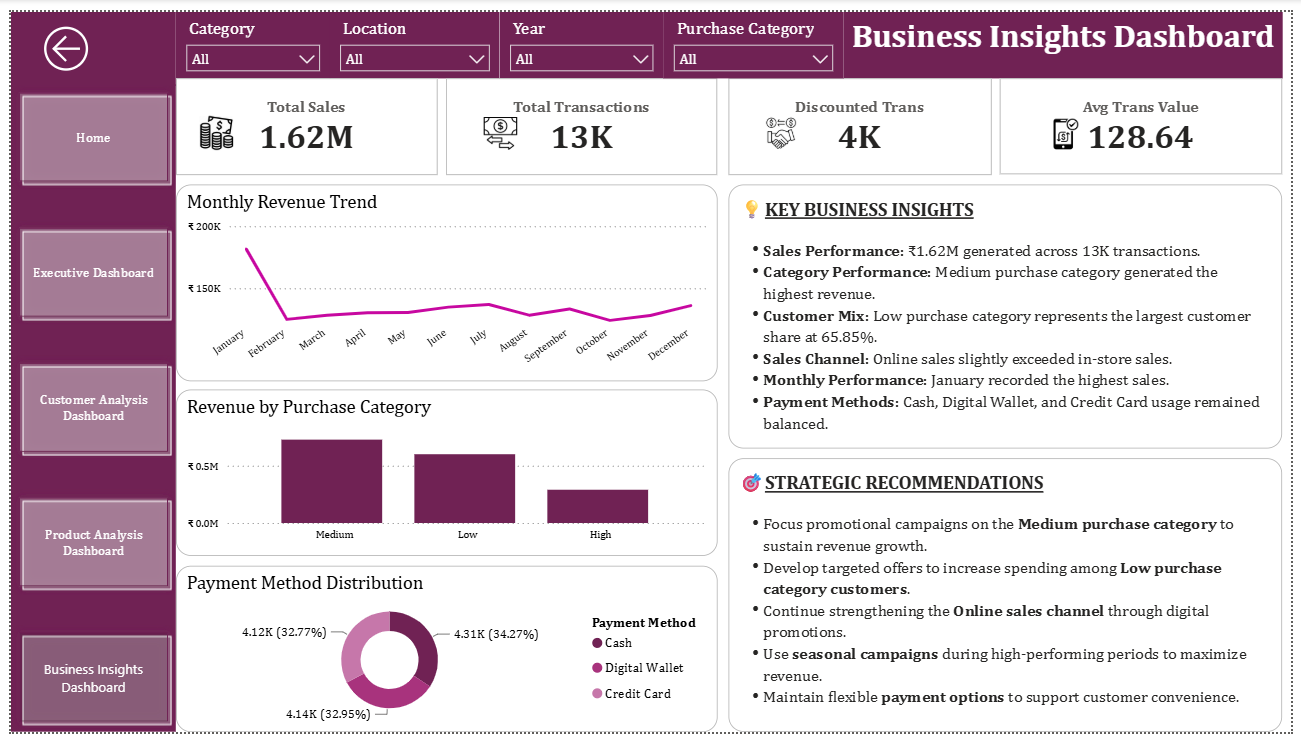

What the dashboard file says about the page in this screenshot:
{"tool":"powerbi","page":{"name":"Business Insights Dashboard","canvas":[1280,720],"ordinal":4},"visuals":[{"type":"textbox","box":[832.7,0,439,66],"z":0},{"type":"slicer","fields":{"Values":["Retail_Sales.Transaction Date.Variation.Date Hierarchy.Year"]},"box":[489.1,0,163.9,66],"z":1000},{"type":"slicer","fields":{"Values":["Retail_Sales.Category"]},"box":[165.1,0,154.1,66],"z":2000},{"type":"slicer","fields":{"Values":["Retail_Sales.Location"]},"box":[319.2,0,170,66],"z":3000},{"type":"cardVisual","fields":{"Data":["Dim_Product.Total Sales"]},"box":[165.1,66,261.7,96.6],"z":4000},{"type":"cardVisual","fields":{"Data":["Retail_Sales.Total Transactions"]},"box":[435.3,66,271.5,96.6],"z":5000},{"type":"cardVisual","fields":{"Data":["Retail_Sales.Discounted Transactions"]},"box":[717.8,66,262.9,96.6],"z":6000},{"type":"cardVisual","fields":{"Data":["Retail_Sales.Average Transaction Value"]},"box":[989.3,66,282.5,96.2],"z":7000},{"type":"lineChart","title":"Monthly Revenue Trend","fields":{"Category":["Retail_Sales.Transaction Date.Variation.Date Hierarchy.Month"],"Y":["Dim_Product.Total Sales"]},"box":[165.1,172.4,541.7,196.9],"z":8000},{"type":"clusteredColumnChart","title":"Revenue by Purchase Category","fields":{"Category":["Retail_Sales.Purchase Category"],"Y":["Dim_Product.Total Sales"]},"box":[165.1,377.9,541.7,166.3],"z":9000},{"type":"donutChart","title":"Payment Method Distribution","fields":{"Category":["Retail_Sales.Payment Method"],"Y":["CountNonNull(Retail_Sales.Transaction ID)"]},"box":[165.1,553.9,541.7,166.3],"z":10000},{"type":"image","box":[183.4,103.9,42.8,34.2],"z":12000},{"type":"image","box":[465.9,105.2,46.5,33],"z":13000},{"type":"image","box":[743.5,103.9,52.6,35.5],"z":14000},{"type":"image","box":[1030.8,105.2,45.2,34.2],"z":15000},{"type":"slicer","fields":{"Values":["Retail_Sales.Purchase Category"]},"box":[653,0,179.8,66],"z":16000},{"type":"textbox","box":[717.8,172.4,553.9,264.1],"z":17000},{"type":"textbox","box":[717.8,446.3,553.9,273.9],"z":18000},{"type":"pageNavigator","box":[0,73.1,165.1,646.9],"z":19000},{"type":"actionButton","box":[0,0,165.1,73.4],"z":20000}]}

Visuals, with their boxes in screenshot pixels (x1, y1, x2, y2), scaled from the page's 1280x720 canvas onto the 1301x742 screenshot:
textbox: box(846, 0, 1293, 68)
slicer - Retail_Sales.Transaction Date.Variation.Date Hierarchy.Year: box(497, 0, 664, 68)
slicer - Retail_Sales.Category: box(168, 0, 324, 68)
slicer - Retail_Sales.Location: box(324, 0, 497, 68)
cardVisual - Dim_Product.Total Sales: box(168, 68, 434, 168)
cardVisual - Retail_Sales.Total Transactions: box(442, 68, 718, 168)
cardVisual - Retail_Sales.Discounted Transactions: box(730, 68, 997, 168)
cardVisual - Retail_Sales.Average Transaction Value: box(1006, 68, 1293, 167)
"Monthly Revenue Trend" lineChart: box(168, 178, 718, 381)
"Revenue by Purchase Category" clusteredColumnChart: box(168, 389, 718, 561)
"Payment Method Distribution" donutChart: box(168, 571, 718, 741)
image: box(186, 107, 230, 142)
image: box(474, 108, 521, 142)
image: box(756, 107, 809, 144)
image: box(1048, 108, 1094, 144)
slicer - Retail_Sales.Purchase Category: box(664, 0, 846, 68)
textbox: box(730, 178, 1293, 450)
textbox: box(730, 460, 1293, 741)
pageNavigator: box(0, 75, 168, 741)
actionButton: box(0, 0, 168, 76)
